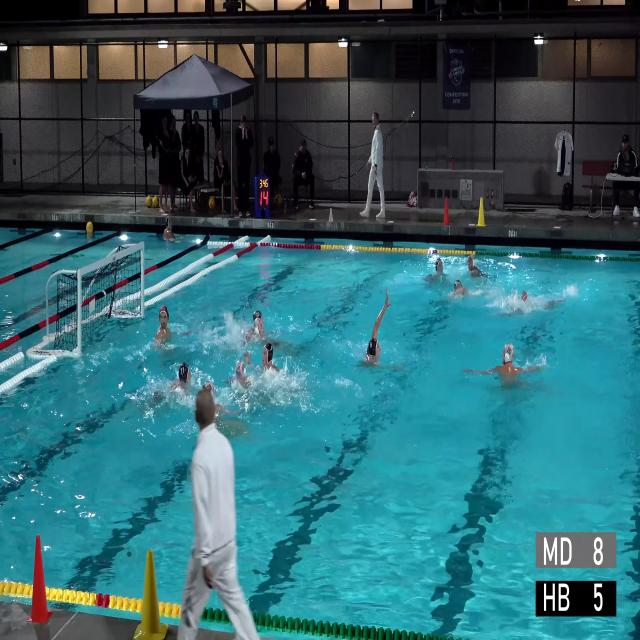ball: (146, 196, 152, 208), (153, 196, 159, 208), (209, 198, 215, 210), (86, 222, 93, 232), (276, 193, 282, 204)
